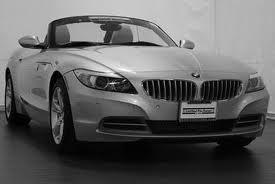car: (6, 15, 271, 160)
